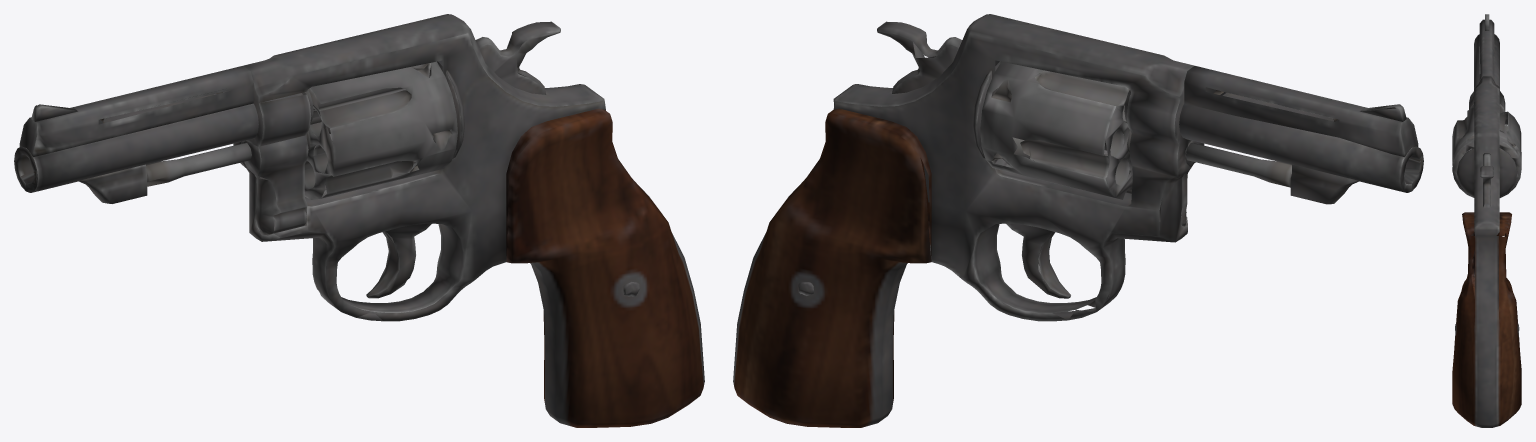
3 renders of one model, left to right at view 1: azimuth 30°, elevation 25°; view 2: azimuth 150°, elevation 25°; view 3: azimuth 270°, elevation 25°, orthographic. The views are drawn at different scales.
Parts seen in each view (by area): view 1: merged; view 2: merged; view 3: merged.
Boxes of the visible parts, x1,y1,x2,y2 form: merged: (14,14,704,427); merged: (733,14,1423,427); merged: (1452,14,1521,427).
Bounding box in the file's own units: 2 × 1.26 × 0.3291.
Materials: 1 (1 with a texture image).
